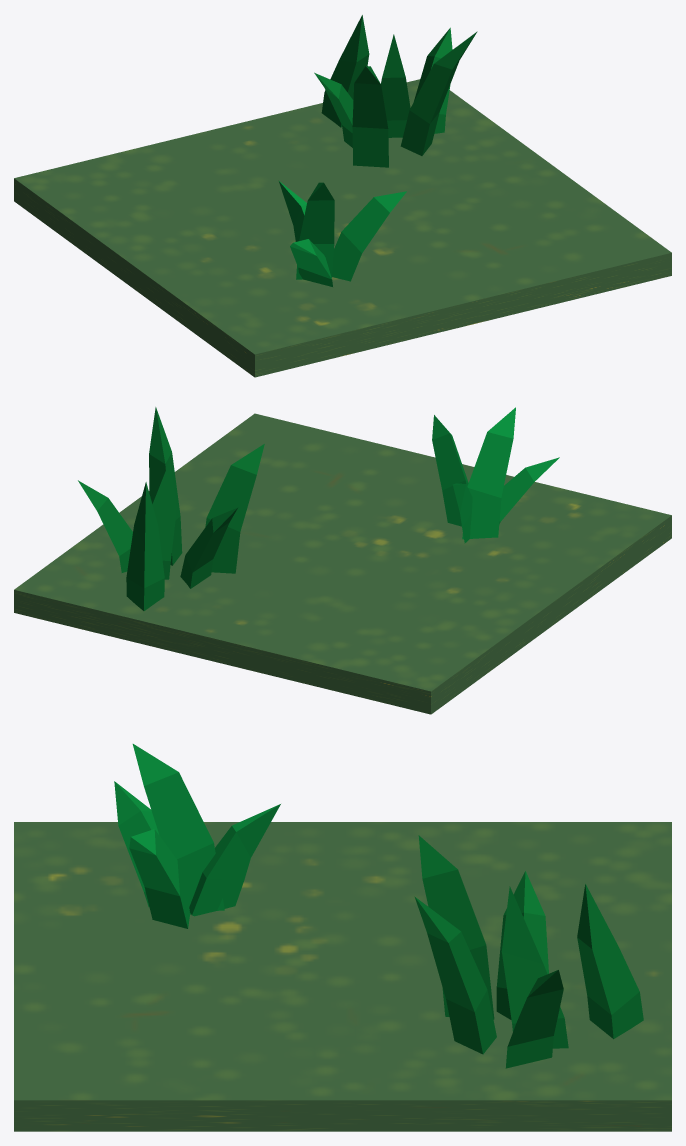
File: grass_02.glb
3 views of the same model, one above another, from view 1: azimuth 30°, elevation 25°; view 2: azimuth 150°, elevation 25°; view 3: azimuth 270°, elevation 25° (orthographic). The views are drawn at different scales.
Parts seen in each view (by area): view 1: Cube, GrassBunch4, GrassBunch5; view 2: Cube, GrassBunch4, GrassBunch5; view 3: Cube, GrassBunch4, GrassBunch5.
Boxes of the visible parts, left/top/right/bottom form: Cube: left=14, top=79, right=671, bottom=377; GrassBunch4: left=314, top=15, right=477, bottom=167; GrassBunch5: left=279, top=181, right=406, bottom=286; Cube: left=14, top=413, right=671, bottom=714; GrassBunch4: left=78, top=407, right=264, bottom=610; GrassBunch5: left=432, top=407, right=559, bottom=543; Cube: left=14, top=822, right=671, bottom=1131; GrassBunch4: left=414, top=835, right=643, bottom=1068; GrassBunch5: left=114, top=744, right=280, bottom=928.
Size of the model in its own units: 2 by 0.6831 by 2.
3 materials, 3 textured.
